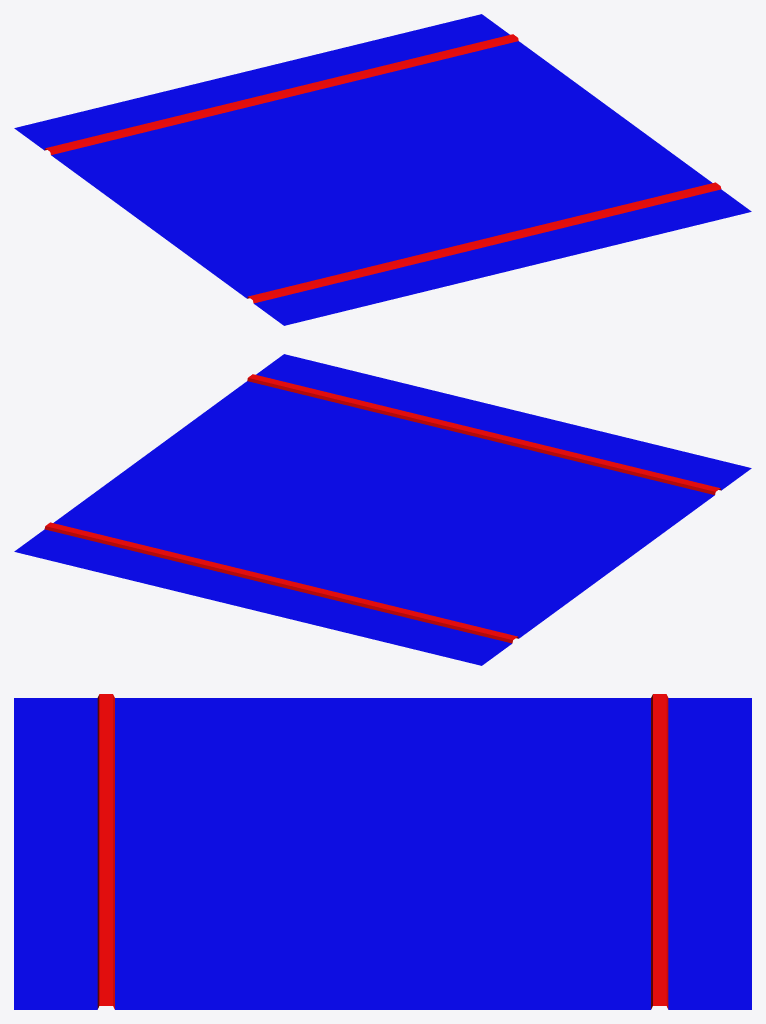
3 views of the same model, one above another, from view 1: azimuth 30°, elevation 25°; view 2: azimuth 150°, elevation 25°; view 3: azimuth 270°, elevation 25° (orthographic). The views are drawn at different scales.
Visible parts, largest first — view 1: 4x4; view 2: 4x4; view 3: 4x4.
Part boxes in pixels (x1,y1,x2,y2): 4x4: [14, 14, 751, 325]; 4x4: [14, 354, 751, 665]; 4x4: [14, 694, 751, 1009].
Size of the model in its own units: 400 by 2.31 by 400.
